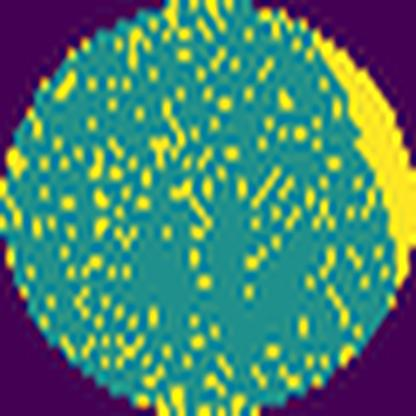Edge-Loc: (287, 1, 416, 317)
